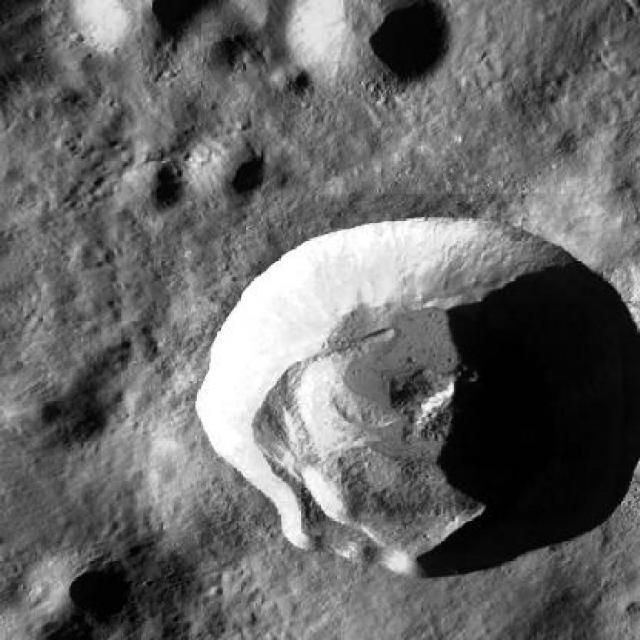crater: (289, 0, 451, 97), (150, 462, 279, 564), (68, 0, 226, 72), (0, 362, 105, 451), (26, 550, 134, 636), (179, 8, 267, 78), (184, 137, 264, 200), (121, 162, 187, 215), (234, 0, 292, 29), (274, 63, 311, 92), (541, 129, 577, 157), (29, 398, 62, 424), (49, 81, 80, 105), (349, 130, 378, 152), (474, 26, 500, 46), (0, 162, 23, 184), (84, 354, 108, 374), (104, 387, 124, 404), (618, 598, 638, 614), (0, 0, 2, 2), (0, 1, 2, 2)
